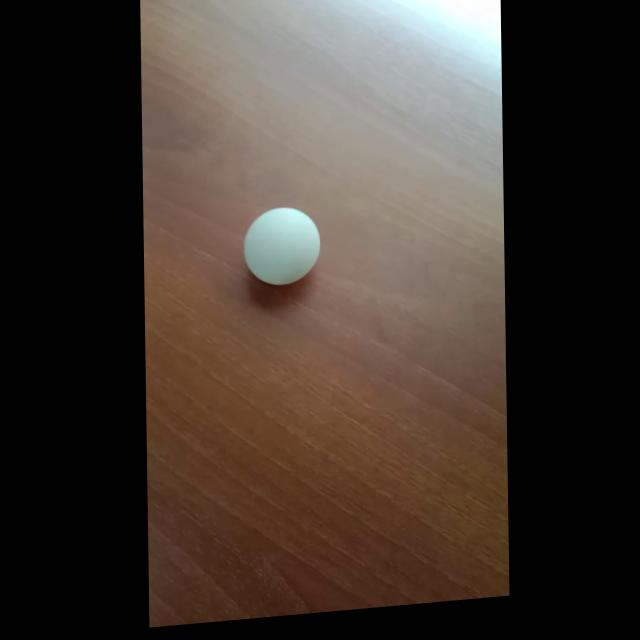white ball: (242, 203, 322, 290)
